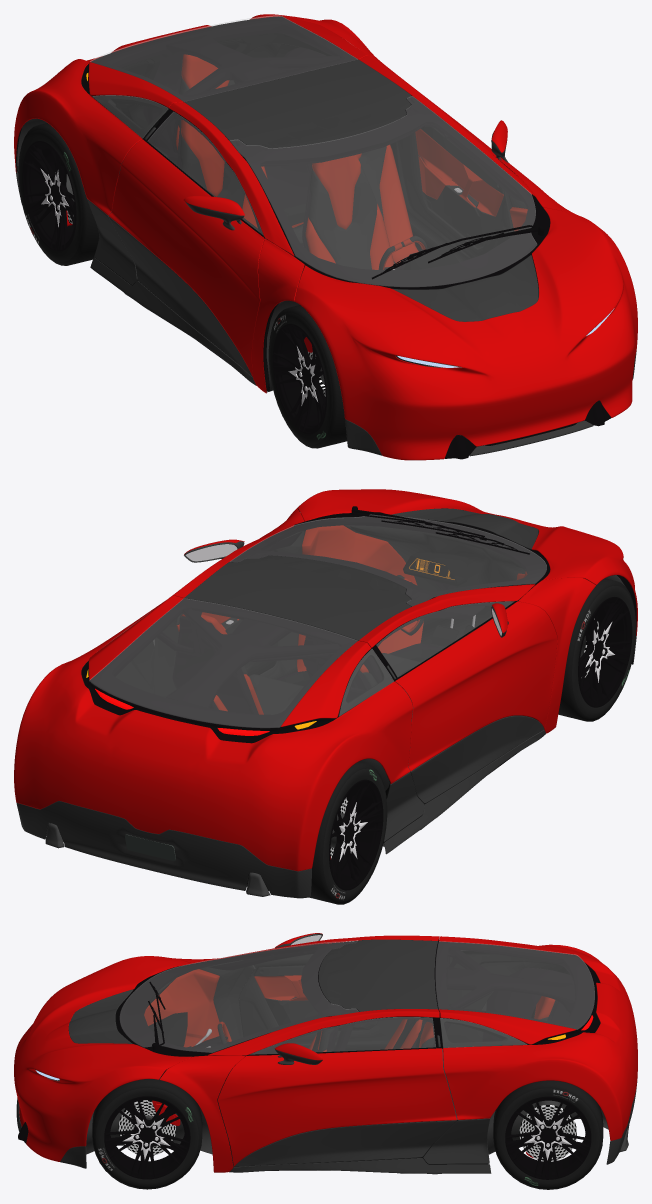
Rendered from sedan.glb.
3 views of the same model, one above another, from view 1: azimuth 30°, elevation 25°; view 2: azimuth 150°, elevation 25°; view 3: azimuth 270°, elevation 25° (orthographic). The views are drawn at different scales.
Visible parts, largest first — view 1: panel_hood, glass_BodyWindshield, panel_BodyDoorRColor1, panel_BodyRoofPanel, panel_BodyRearwindow, panel_bumper_rear, BodyWindshieldGasket, InteriorSeatsColor1, panel_BodyPillars, InteriorSeatsColor2, InteriorPillar, panel_BodyPanelsColor2 (+22 smaller); view 2: panel_bumper_rear, panel_BodyRearwindow, panel_BodyDoorRColor1, panel_BodyPanelsColor2, glass_BodyWindshield, panel_BodyRoofPanel, panel_hood, panel_BodyPillars, InteriorRearHatch, BodyWindshieldGasket, InteriorPillar, InteriorDashMid (+22 smaller); view 3: panel_BodyDoorLColor1, panel_bumper_rear, glass_BodyWindshield, panel_hood, panel_BodyRearwindow, panel_BodyRoofPanel, panel_BodyPillars, panel_BodyDoorLColor2, panel_BodyPanelsColor2, BodyWindshieldGasket, WheelRearLRim, WheelFrontLRim (+24 smaller).
Part boxes in pixels (bbox=[...]): panel_hood: bbox=[294, 207, 637, 460]; glass_BodyWindshield: bbox=[230, 96, 536, 286]; panel_BodyDoorRColor1: bbox=[109, 139, 264, 376]; panel_BodyRoofPanel: bbox=[184, 59, 411, 148]; panel_BodyRearwindow: bbox=[90, 15, 357, 101]; panel_bumper_rear: bbox=[14, 14, 404, 215]; BodyWindshieldGasket: bbox=[230, 97, 550, 289]; InteriorSeatsColor1: bbox=[176, 54, 418, 269]; panel_BodyPillars: bbox=[169, 55, 581, 393]; InteriorSeatsColor2: bbox=[178, 77, 396, 269]; InteriorPillar: bbox=[142, 34, 421, 174]; panel_BodyPanelsColor2: bbox=[16, 171, 636, 456]; panel_bumper_rear: bbox=[14, 595, 412, 871]; panel_BodyRearwindow: bbox=[89, 598, 357, 727]; panel_BodyDoorRColor1: bbox=[395, 601, 557, 770]; panel_BodyPanelsColor2: bbox=[16, 636, 636, 898]; glass_BodyWindshield: bbox=[230, 514, 546, 605]; panel_BodyRoofPanel: bbox=[184, 555, 411, 640]; panel_hood: bbox=[297, 489, 637, 635]; panel_BodyPillars: bbox=[173, 508, 595, 733]; InteriorRearHatch: bbox=[90, 599, 369, 732]; BodyWindshieldGasket: bbox=[231, 514, 550, 606]; InteriorPillar: bbox=[166, 600, 409, 708]; InteriorDashMid: bbox=[344, 520, 531, 647]; panel_BodyDoorLColor1: bbox=[217, 1048, 456, 1166]; panel_bumper_rear: bbox=[439, 936, 637, 1140]; glass_BodyWindshield: bbox=[120, 940, 358, 1052]; panel_hood: bbox=[14, 956, 192, 1161]; panel_BodyRearwindow: bbox=[435, 941, 594, 1029]; panel_BodyRoofPanel: bbox=[318, 939, 437, 1011]; panel_BodyPillars: bbox=[159, 935, 439, 1172]; panel_BodyDoorLColor2: bbox=[234, 1120, 456, 1166]; panel_BodyPanelsColor2: bbox=[16, 1078, 637, 1174]; BodyWindshieldGasket: bbox=[116, 941, 357, 1056]; WheelRearLRim: bbox=[505, 1096, 591, 1179]; WheelFrontLRim: bbox=[104, 1096, 190, 1179].
Size of the model in its own units: 2.2 by 1.3 by 4.64.
Materials: 24 (5 with a texture image).
